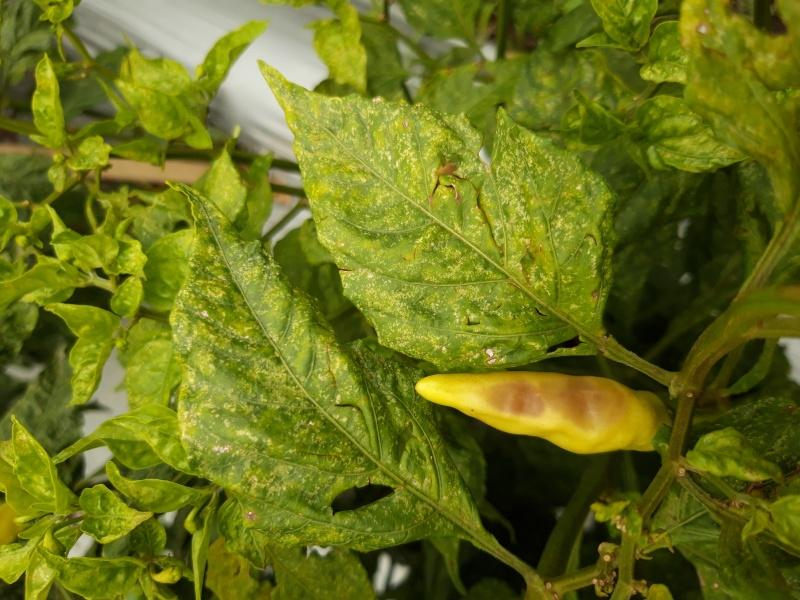antraknosa: (416, 372, 666, 457)
